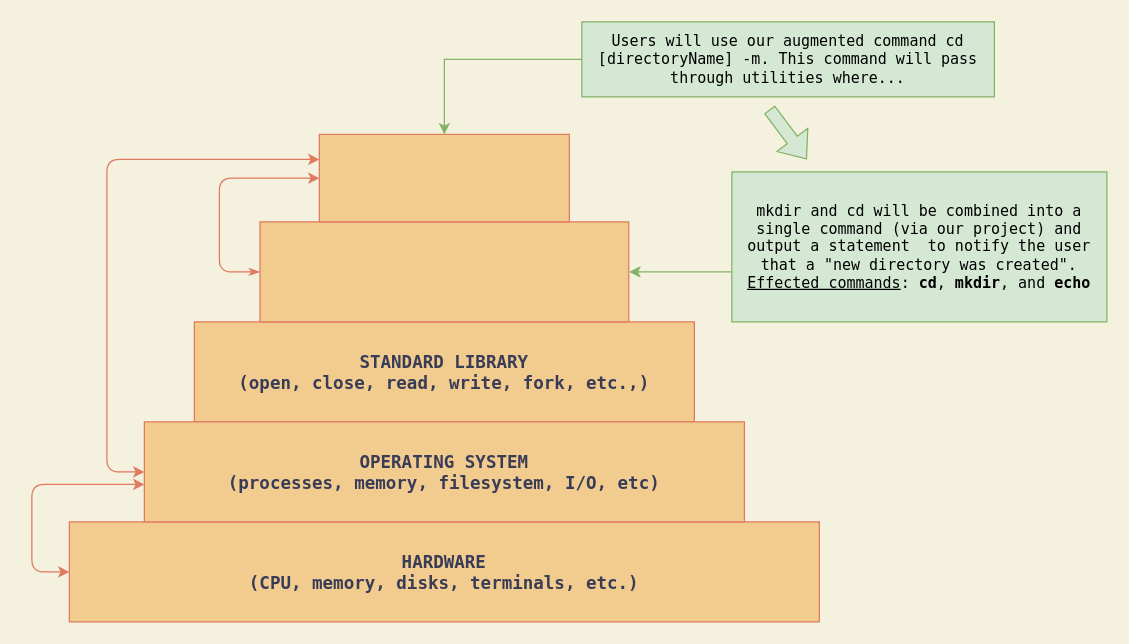
Image size: 1129x644. Some labels were removed from this diagram. The box of each missing label's shape, as (x1, y1, x2, y2) in pixels:
USERS: (318, 133, 569, 222)
UTILITIES (shell, editors, filters, etc): (259, 221, 629, 322)
